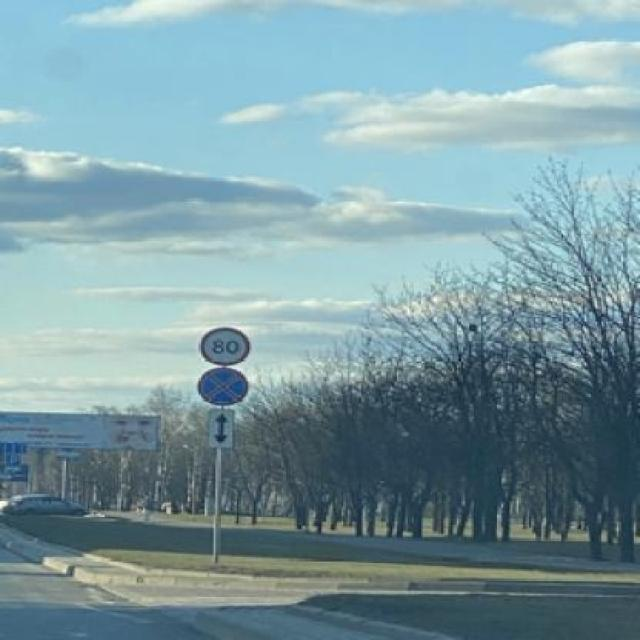forb_speed_over_80: (199, 325, 250, 367)
